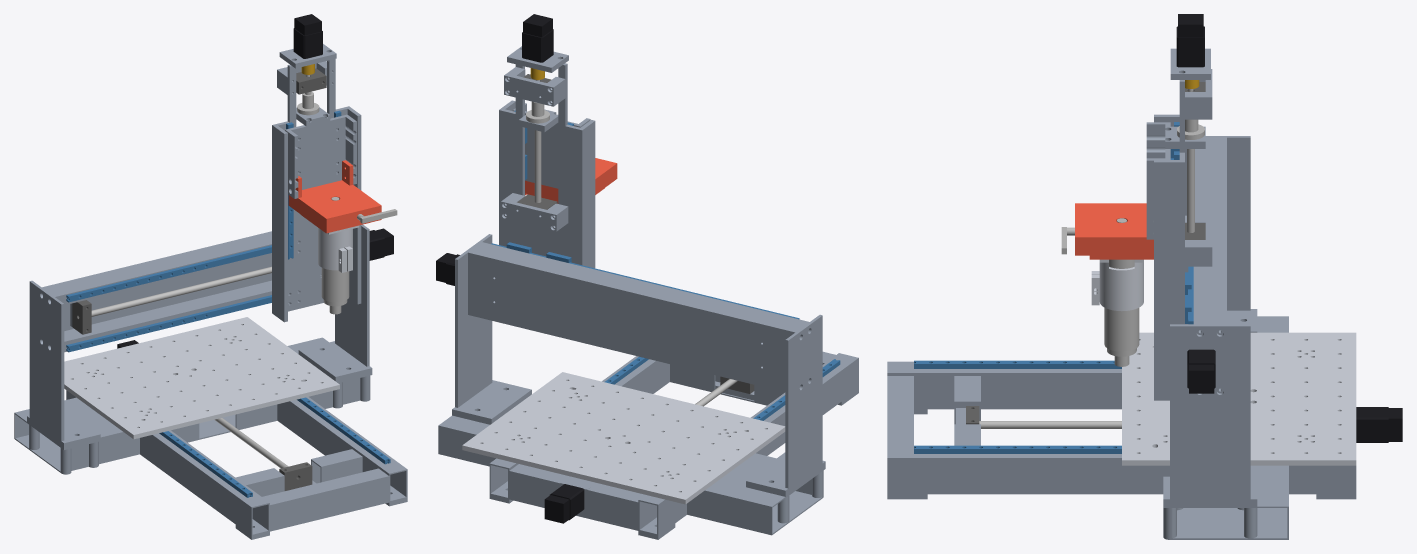
Rendered from light_dock.glb.
3 views of the same model, side by side, from view 1: azimuth 30°, elevation 25°; view 2: azimuth 150°, elevation 25°; view 3: azimuth 270°, elevation 25° (orthographic). The views are drawn at different scales.
Parts seen in each view (by area): view 1: table, beam, x_carriage, frame_cross_rear, upright_L, frame_longeron_L, frame_cross_front, z_slide, upright_R, frame_longeron_R, tooldock_master, frame_cross_bf (+14 smaller); view 2: beam, table, x_carriage, frame_cross_rear, upright_L, upright_R, frame_cross_end, frame_longeron_L, frame_longeron_R, z_slide, z_bk_bridge, frame_cross_bf (+7 smaller); view 3: table, upright_R, frame_longeron_R, frame_longeron_L, x_carriage, frame_cross_rear, beam, upright_L, tooldock_master, head_mount, head_spindle, frame_cross_front (+12 smaller).
Boxes of the visible parts, box(x1,y1,x2,y2) form: table: box(64, 317, 339, 439); beam: box(42, 231, 271, 352); x_carriage: box(272, 59, 361, 322); frame_cross_rear: box(14, 337, 372, 474); upright_L: box(27, 280, 100, 448); frame_longeron_L: box(66, 390, 269, 539); frame_cross_front: box(262, 468, 389, 531); z_slide: box(285, 114, 356, 198); upright_R: box(298, 224, 372, 382); frame_longeron_R: box(277, 397, 407, 506); tooldock_master: box(288, 160, 381, 233); frame_cross_bf: box(235, 449, 362, 496); beam: box(468, 242, 809, 391); table: box(462, 372, 785, 504); x_carriage: box(499, 63, 595, 268); frame_cross_rear: box(438, 415, 825, 535); upright_L: box(746, 314, 825, 496); upright_R: box(452, 234, 531, 424); frame_cross_end: box(509, 464, 644, 530); frame_longeron_L: box(638, 353, 858, 539); frame_longeron_R: box(489, 356, 669, 503); z_slide: box(512, 103, 590, 188); z_bk_bridge: box(504, 67, 565, 106); frame_cross_bf: box(670, 364, 784, 405); table: box(1122, 332, 1356, 465); upright_R: box(1163, 324, 1257, 506); frame_longeron_R: box(887, 446, 1356, 499); frame_longeron_L: box(887, 361, 1121, 414); x_carriage: box(1154, 80, 1184, 400); frame_cross_rear: box(1163, 316, 1288, 539); beam: box(1193, 137, 1226, 393); upright_L: box(1185, 136, 1257, 332); tooldock_master: box(1075, 203, 1153, 255); head_mount: box(1091, 259, 1143, 311); head_spindle: box(1104, 259, 1139, 366); frame_cross_front: box(887, 376, 913, 446).
Bounding box in the file's own units: 741 × 811 × 769.
